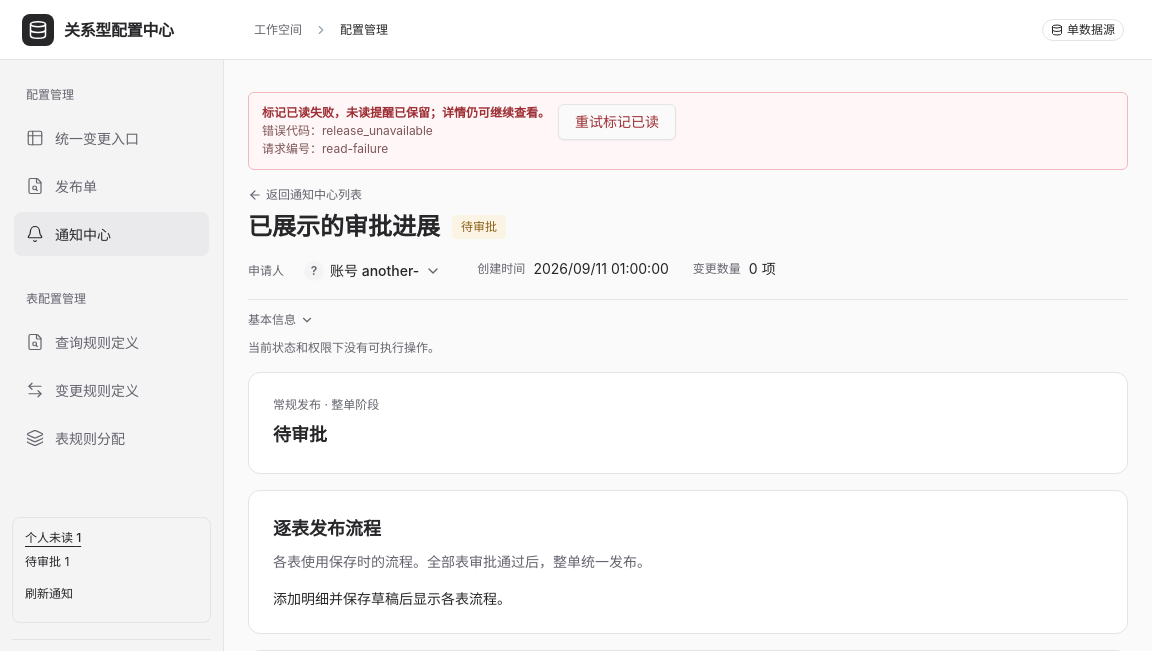
Scenario: 详情只确认成功展示的通知进度，已读失败不阻断阅读且仅手动重试原进度
Check: the heading "已展示的审批进展" is shown, box [248,211,440,243]
Check: the link "返回通知中心列表" is shown, box [248,187,362,203]
Click the button "重试标记已读" at [617, 122], box [558,104,676,140]
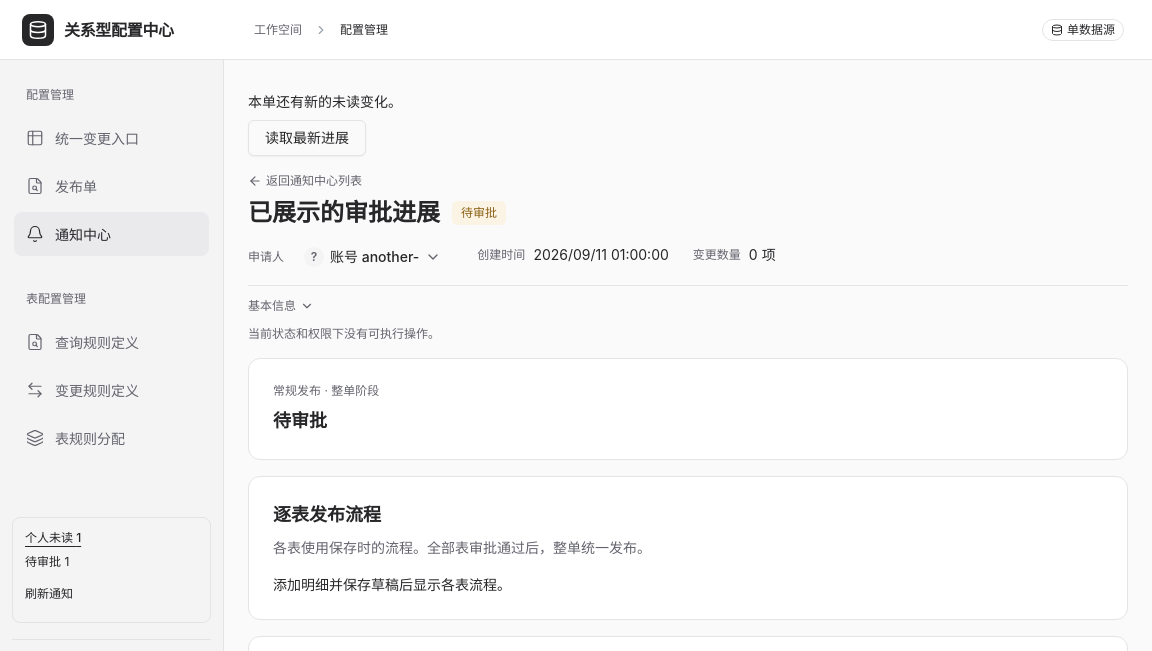
Check: the text "本单还有新的未读变化。" is shown, box [248,93,402,110]
